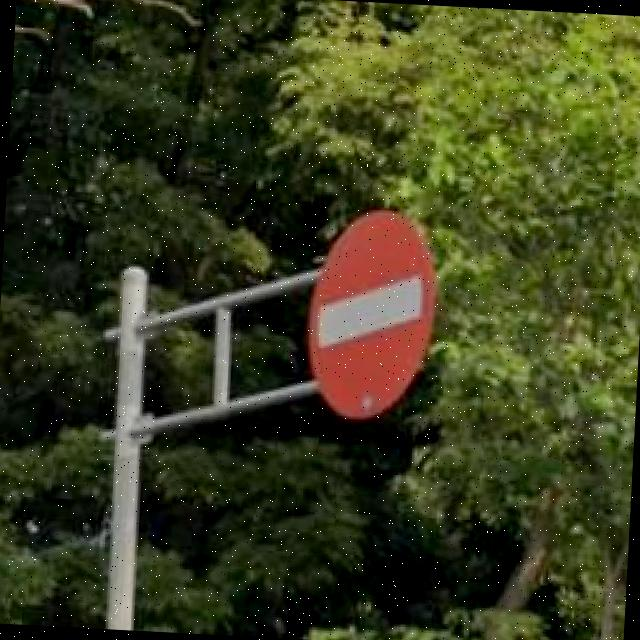Zakaz wjazdu: (307, 210, 443, 421)
